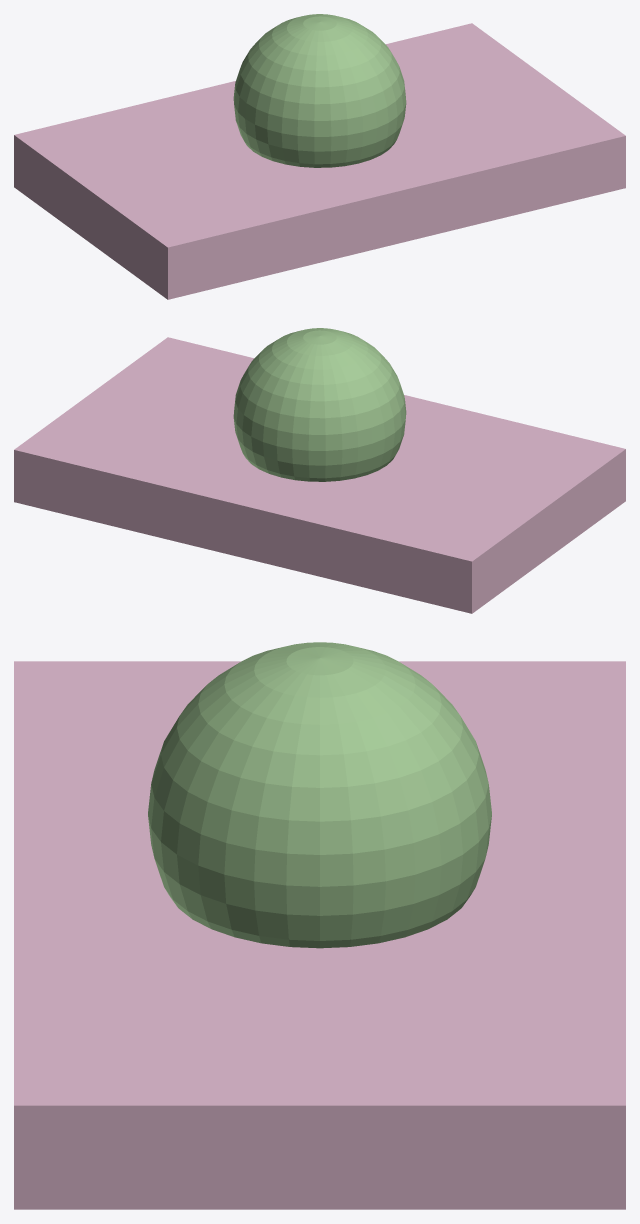
File: MOD_FLOWERBED_STANDARD_001_LOD_CLOSE.glb
The picture shows the model from 3 angles, top to bottom: view 1: azimuth 30°, elevation 25°; view 2: azimuth 150°, elevation 25°; view 3: azimuth 270°, elevation 25°; orthographic projection. The views are drawn at different scales.
Visible parts, largest first — view 1: MOD_FLOWERBED_STANDARD_001_CLOSE_BED, MOD_FLOWERBED_STANDARD_001_CLOSE_PLANT_CLUSTER; view 2: MOD_FLOWERBED_STANDARD_001_CLOSE_BED, MOD_FLOWERBED_STANDARD_001_CLOSE_PLANT_CLUSTER; view 3: MOD_FLOWERBED_STANDARD_001_CLOSE_BED, MOD_FLOWERBED_STANDARD_001_CLOSE_PLANT_CLUSTER.
Part boxes in pixels (left/top/right/bottom): MOD_FLOWERBED_STANDARD_001_CLOSE_BED: left=14, top=23, right=625, bottom=299; MOD_FLOWERBED_STANDARD_001_CLOSE_PLANT_CLUSTER: left=233, top=14, right=406, bottom=167; MOD_FLOWERBED_STANDARD_001_CLOSE_BED: left=14, top=337, right=625, bottom=613; MOD_FLOWERBED_STANDARD_001_CLOSE_PLANT_CLUSTER: left=233, top=328, right=406, bottom=481; MOD_FLOWERBED_STANDARD_001_CLOSE_BED: left=14, top=661, right=625, bottom=1209; MOD_FLOWERBED_STANDARD_001_CLOSE_PLANT_CLUSTER: left=148, top=642, right=491, bottom=948.
Bounding box in the file's own units: 1.1 × 0.38 × 0.64.
